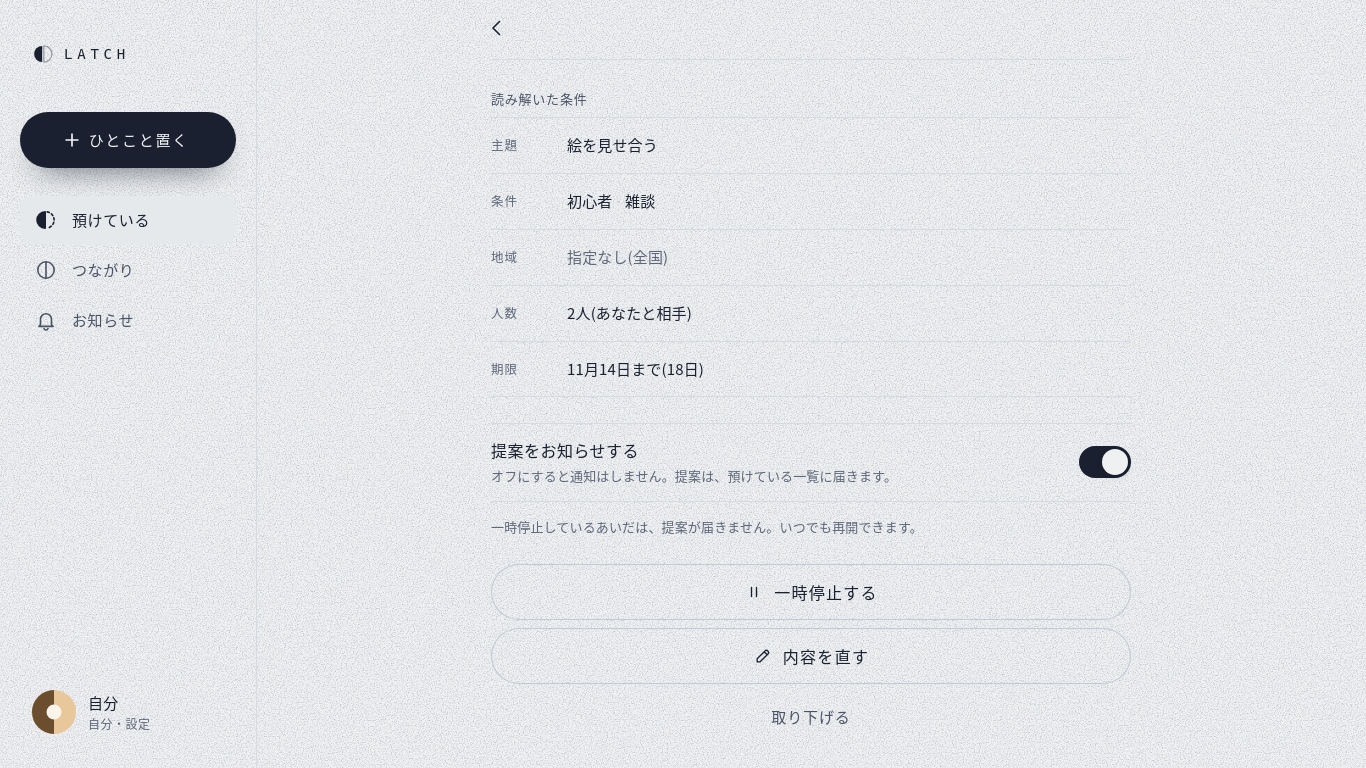
IntentDetail 操作 › 取り下げが503(一時的に受け付けられない)ならサーバーの「少し待って」の文言を出して留まる(LAT-126)
(page scrolled)
Click the button "取り下げる" at (811, 716), box [491,692,1131,740]
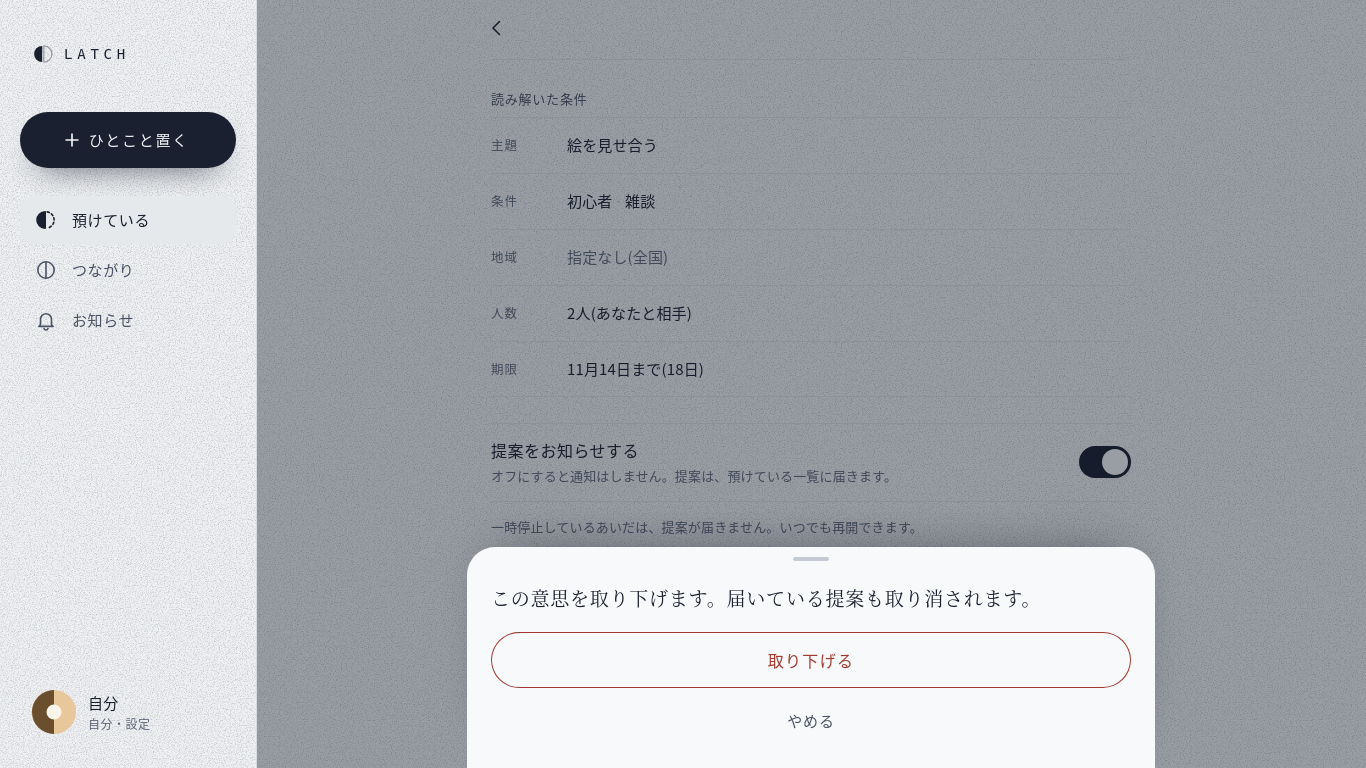
Click the button "取り下げる" at (811, 660), box [491,632,1131,688]
(page scrolled)
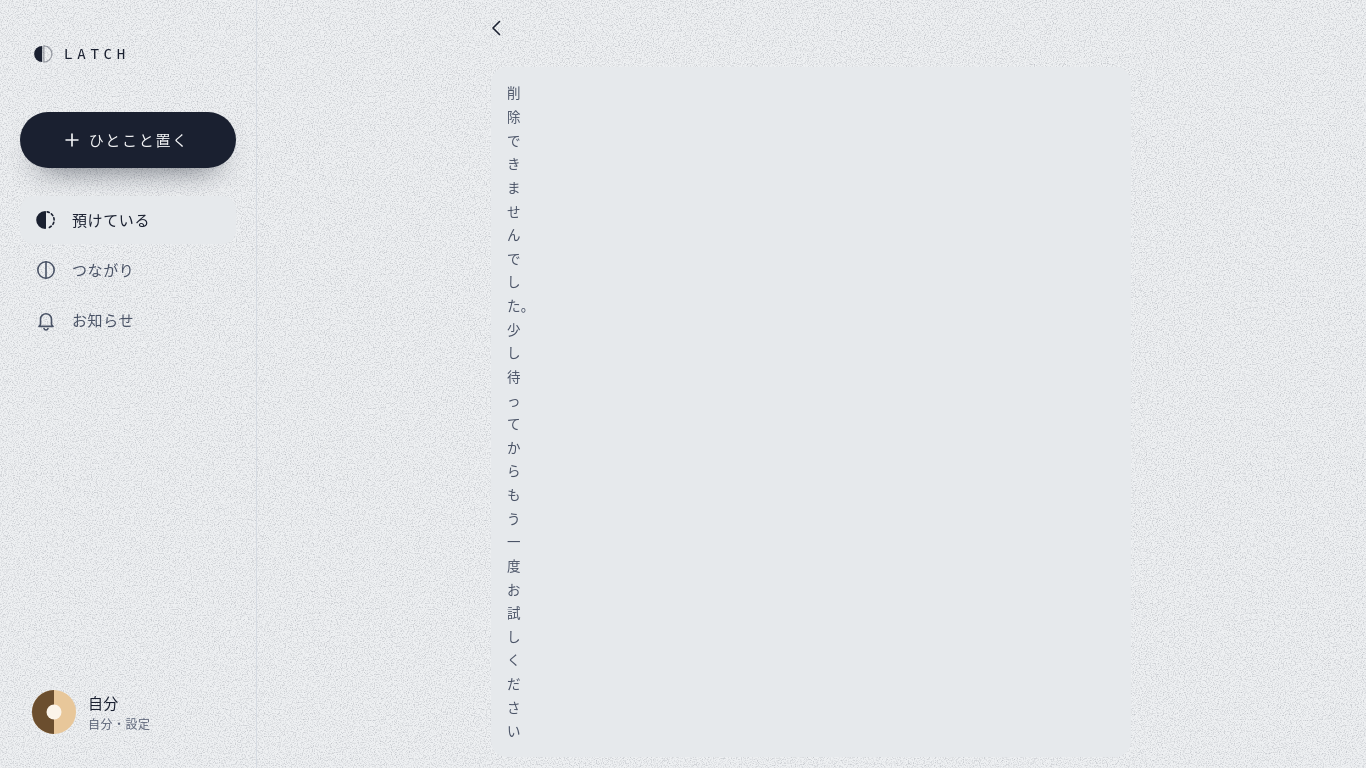
expect the text "削除できませんでした。少し待ってからもう一度お試しください" is shown: met, box [491,67,1131,757]
expect the dialog is gone: met
